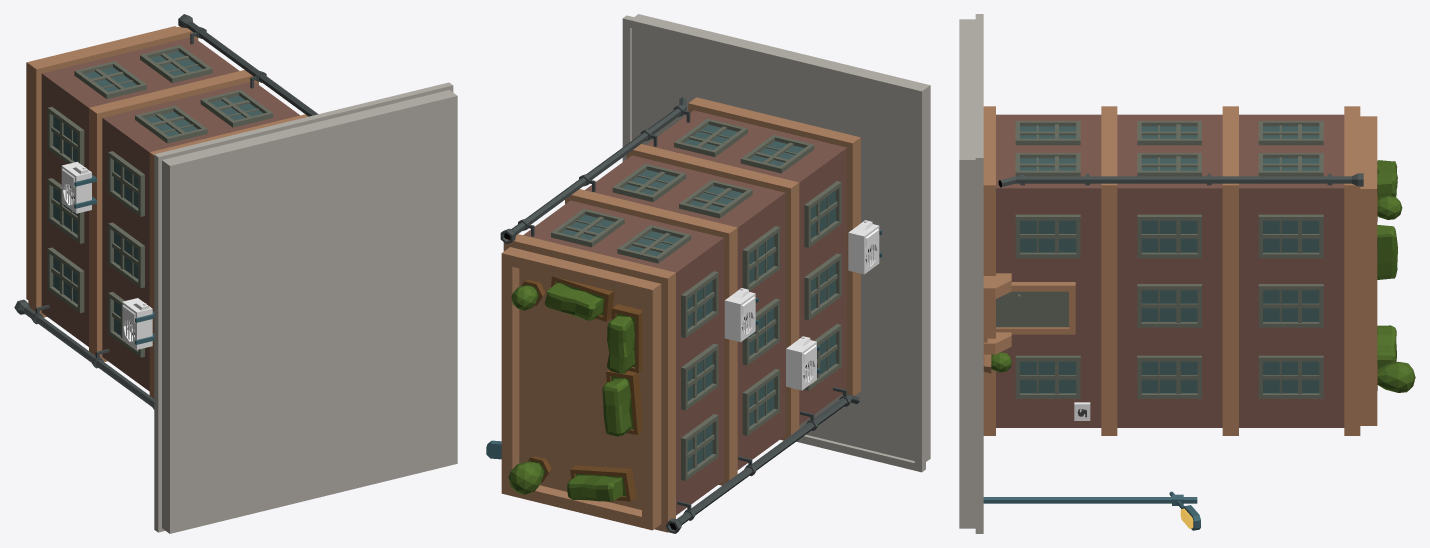
Rendered from left_apartment.glb.
3 views of the same model, side by side, from view 1: azimuth 30°, elevation 25°; view 2: azimuth 150°, elevation 25°; view 3: azimuth 270°, elevation 25° (orthographic).
Parts seen in each view (by area): view 1: TextPlus009; view 2: TextPlus009; view 3: TextPlus009.
Part boxes in pixels (<box>): TextPlus009: <box>14,14,457,533</box>; TextPlus009: <box>486,14,930,533</box>; TextPlus009: <box>959,14,1415,533</box>.
Size of the model in its own units: 9 by 10 by 11.
